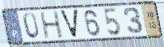0: (22, 12, 40, 40)
3: (123, 7, 145, 36)
5: (102, 7, 122, 37)
6: (83, 8, 102, 38)
H: (39, 10, 65, 40)
V: (58, 9, 80, 39)
